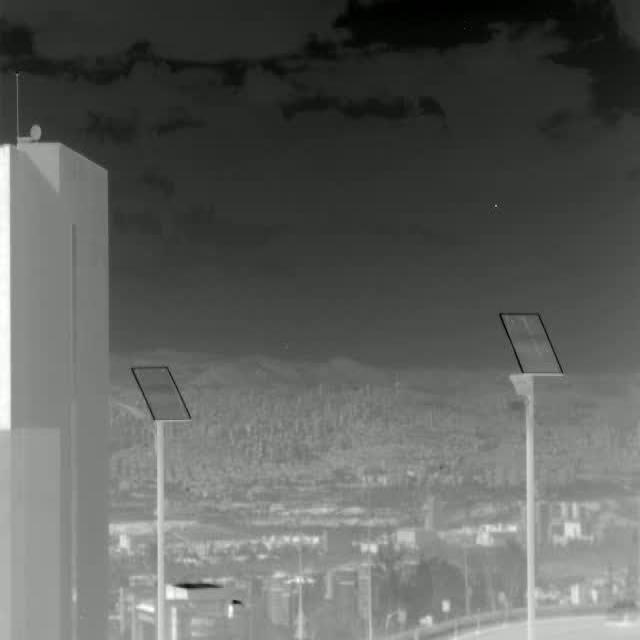Car: (601, 597, 640, 627)
